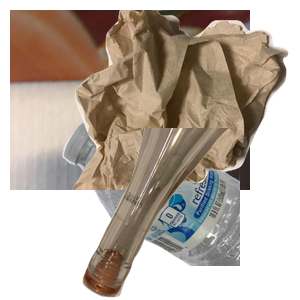cardboard: (10, 10, 250, 190)
glass: (80, 128, 300, 300)
plastic: (60, 120, 300, 300)
trash: (70, 10, 300, 190)
